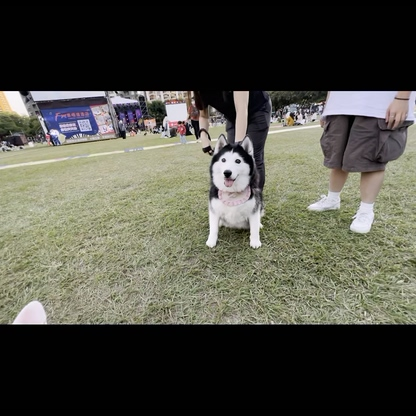husky: (202, 131, 272, 253)
